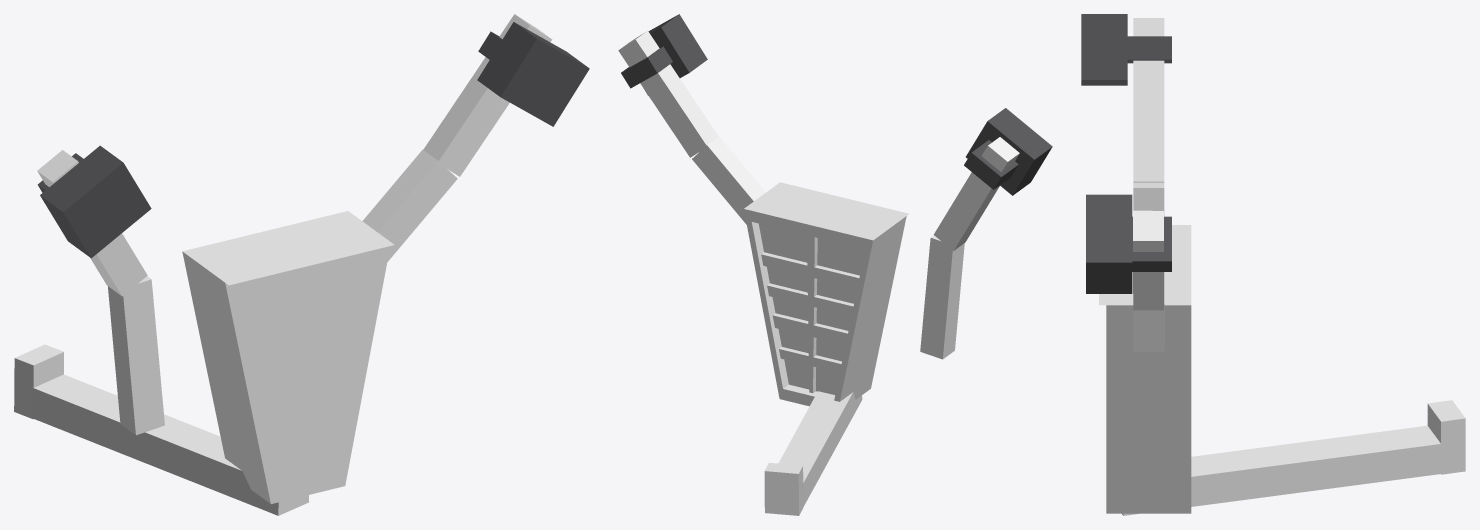
File: Cadaver2.fbx
3 views of the same model, side by side, from view 1: azimuth 30°, elevation 25°; view 2: azimuth 150°, elevation 25°; view 3: azimuth 270°, elevation 25° (orthographic). The views are drawn at different scales.
Parts seen in each view (by area): view 1: Cadaver2; view 2: Cadaver2; view 3: Cadaver2.
Part boxes in pixels (x1=…): Cadaver2: x1=14, y1=14, x2=589, y2=515; Cadaver2: x1=618, y1=14, x2=1052, y2=515; Cadaver2: x1=1081, y1=14, x2=1465, y2=515.
Bounding box in the file's own units: 2.41 × 1.86 × 1.53.
